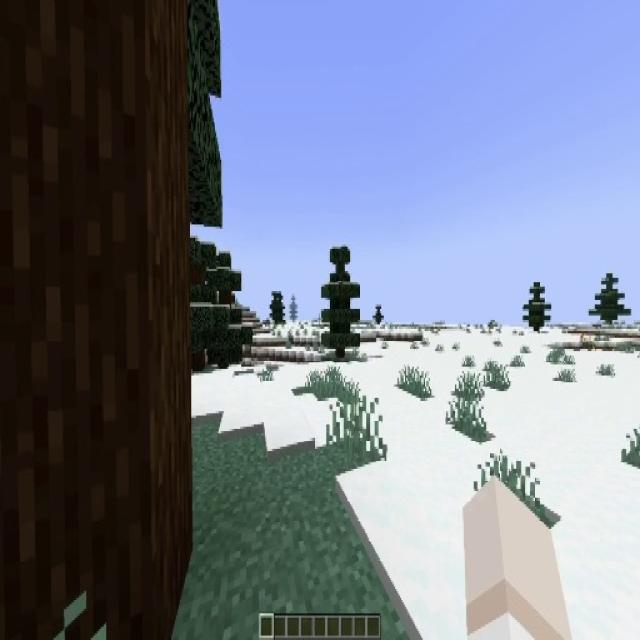spruce: (202, 251, 251, 369), (320, 246, 360, 359), (589, 270, 630, 329), (523, 281, 553, 332), (269, 290, 286, 324), (372, 304, 384, 324)
spruce_log: (0, 0, 195, 628)
